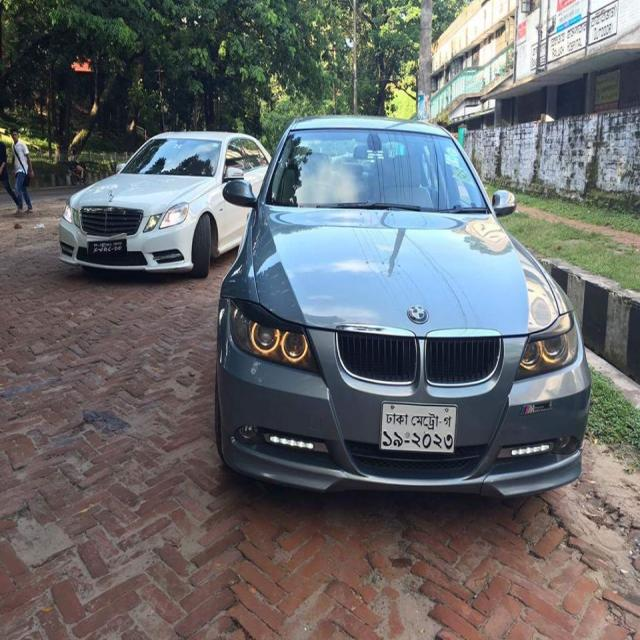numberplate: (379, 401, 457, 454), (87, 233, 127, 260)
